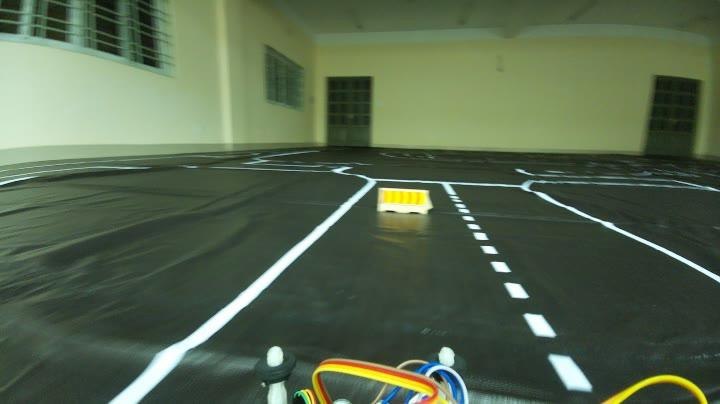roadblock: (374, 184, 437, 221)
